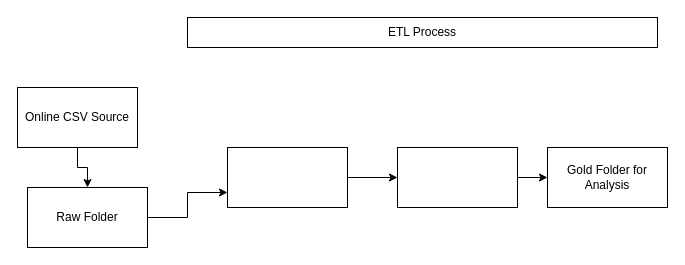
This 685x265 diagram has some shape labels left out. Each missing label, with the centre of its shape:
"Tranform" belongs at [287,177].
"Transformed Folder" belongs at [457,177].
